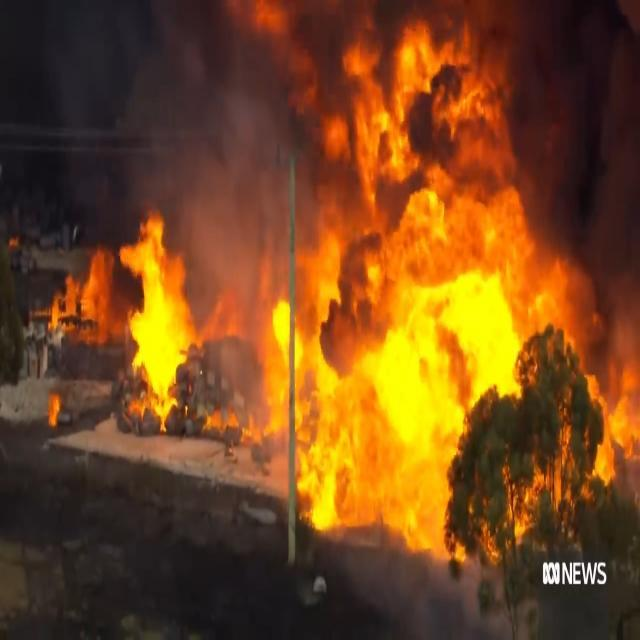fire: (49, 5, 576, 482)
